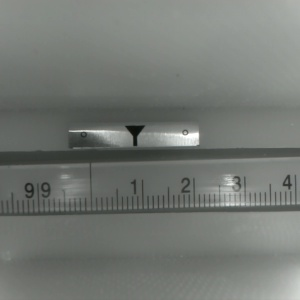1: (130, 178, 136, 194)
2: (180, 177, 190, 193)
3: (229, 176, 240, 191)
4: (281, 174, 292, 189)
9: (39, 182, 50, 198), (23, 184, 34, 199)
finger: (123, 125, 145, 147)
